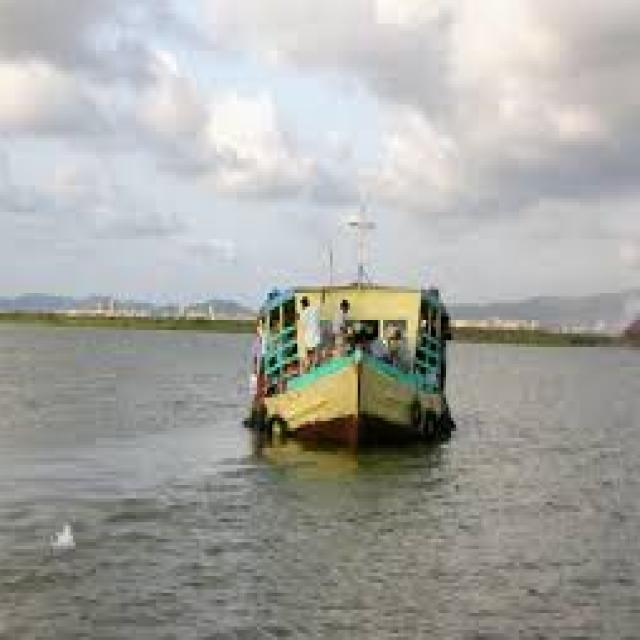fishing boat: (242, 205, 461, 464)
